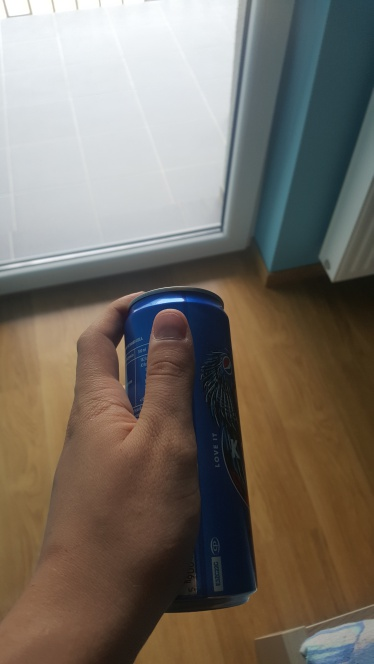pepsi: (106, 277, 286, 614)
